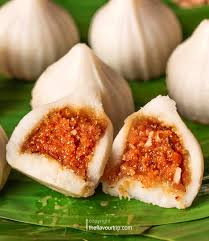modak: (21, 31, 148, 130), (83, 1, 188, 83), (1, 1, 83, 79), (168, 8, 209, 129)
